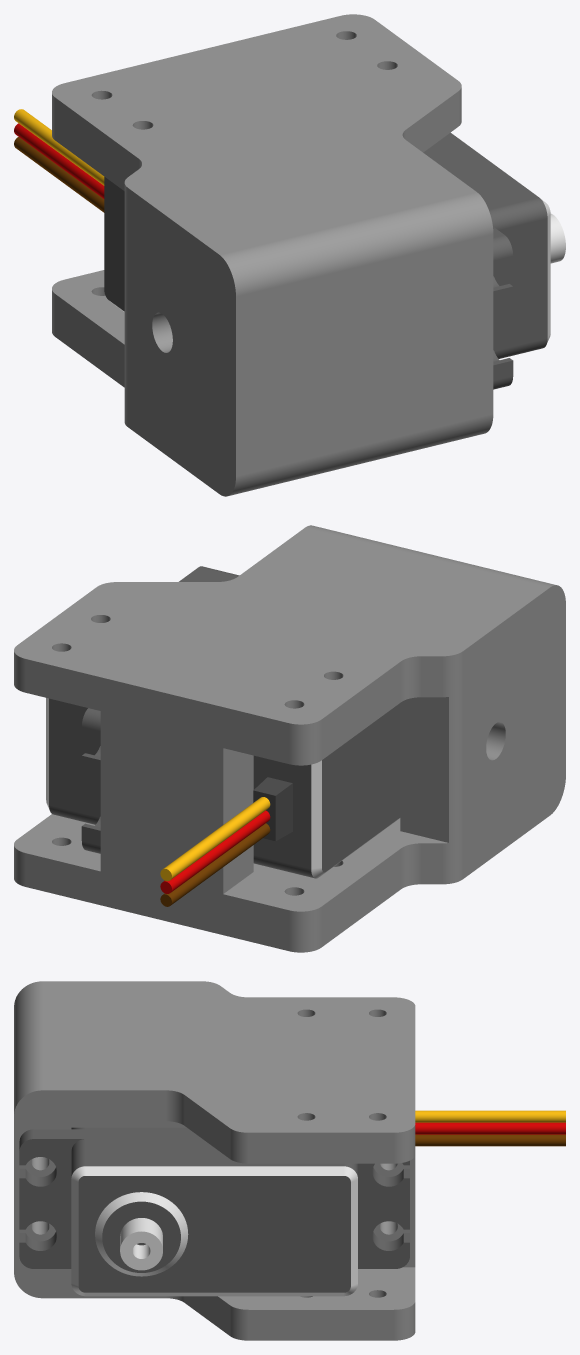
The model's file is Stab Rave Omni Lifter Motor.dae.
The picture shows the model from 3 angles, top to bottom: view 1: azimuth 30°, elevation 25°; view 2: azimuth 150°, elevation 25°; view 3: azimuth 270°, elevation 25°; orthographic projection. The views are drawn at different scales.
Parts seen in each view (by area): view 1: Stab Rave Omni Lifter Motor Mount, Flash Hobby M45CHW 45kg servo - Flipped Cable; view 2: Stab Rave Omni Lifter Motor Mount, Flash Hobby M45CHW 45kg servo - Flipped Cable; view 3: Stab Rave Omni Lifter Motor Mount, Flash Hobby M45CHW 45kg servo - Flipped Cable.
Part boxes in pixels (x1=…): Stab Rave Omni Lifter Motor Mount: x1=52, y1=14, x2=493, y2=496; Flash Hobby M45CHW 45kg servo - Flipped Cable: x1=14, y1=109, x2=565, y2=389; Stab Rave Omni Lifter Motor Mount: x1=14, y1=525, x2=565, y2=952; Flash Hobby M45CHW 45kg servo - Flipped Cable: x1=46, y1=566, x2=400, y2=906; Stab Rave Omni Lifter Motor Mount: x1=14, y1=981, x2=415, y2=1340; Flash Hobby M45CHW 45kg servo - Flipped Cable: x1=19, y1=1110, x2=565, y2=1296.
Size of the model in its own units: 0.0547 by 0.077 by 0.032.
